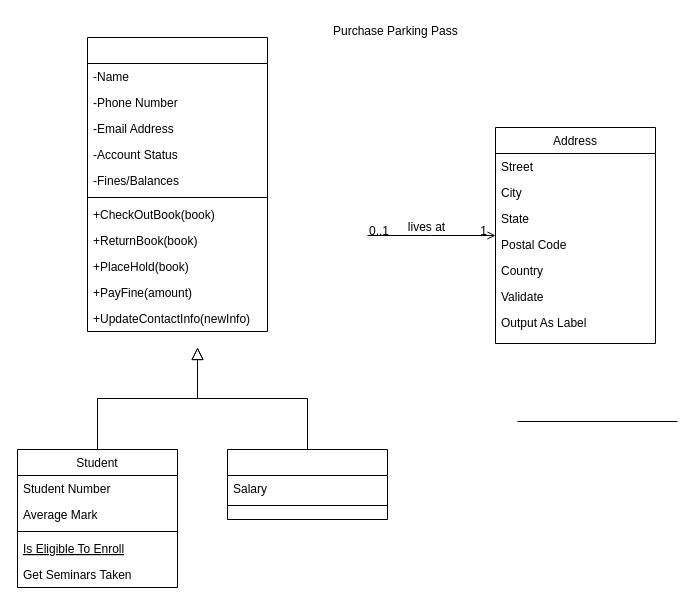
This 695x607 diagram has some shape labels left out. Here are the shapes that lost their labels. From the top down, the box of each, then its label:
(86, 36, 268, 332): Patron
(226, 448, 388, 520): Professor
